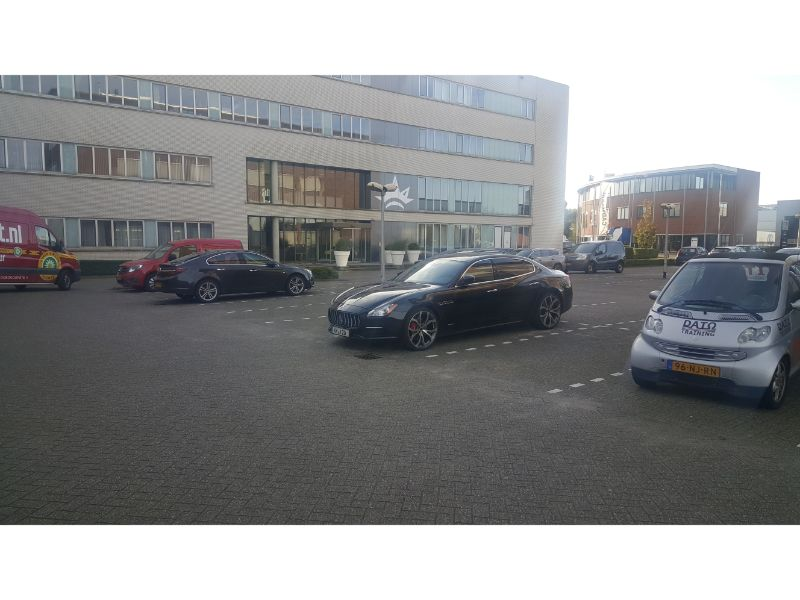kenteken: (665, 355, 722, 383), (321, 324, 355, 338)
